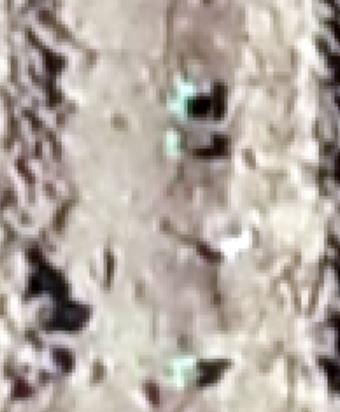cotton: (170, 356, 199, 389), (175, 80, 192, 113), (165, 131, 182, 152)
